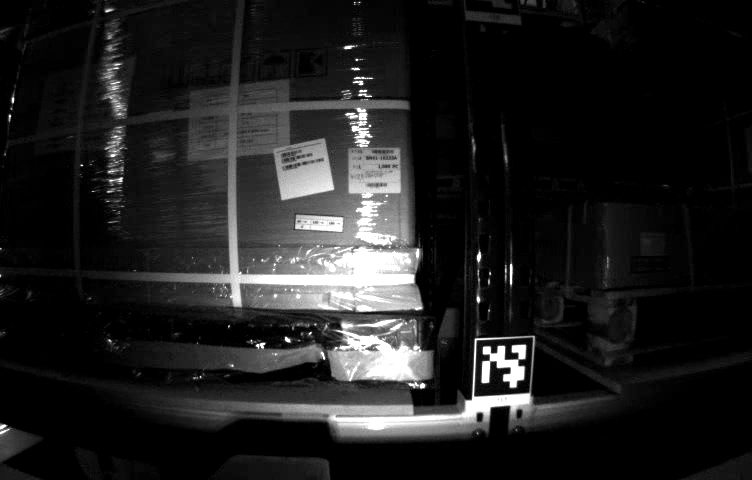True Barcode: (346, 145, 401, 196)
